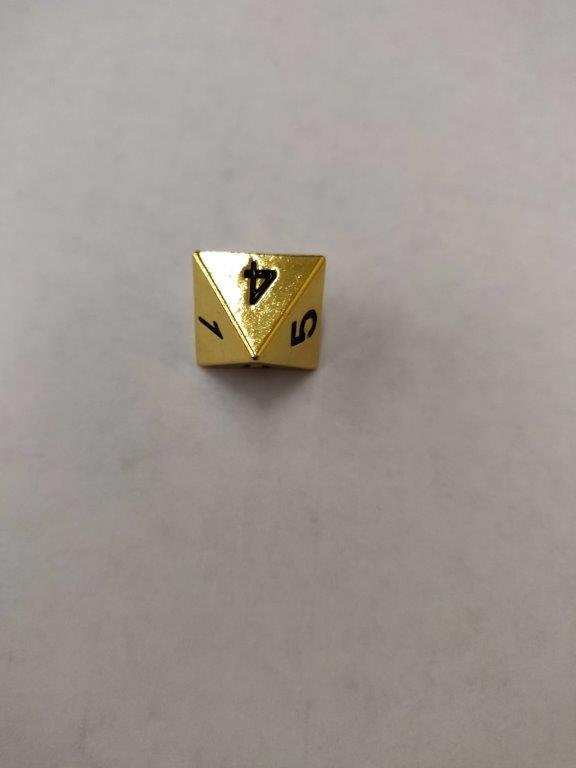d8-4: (190, 244, 327, 374)
